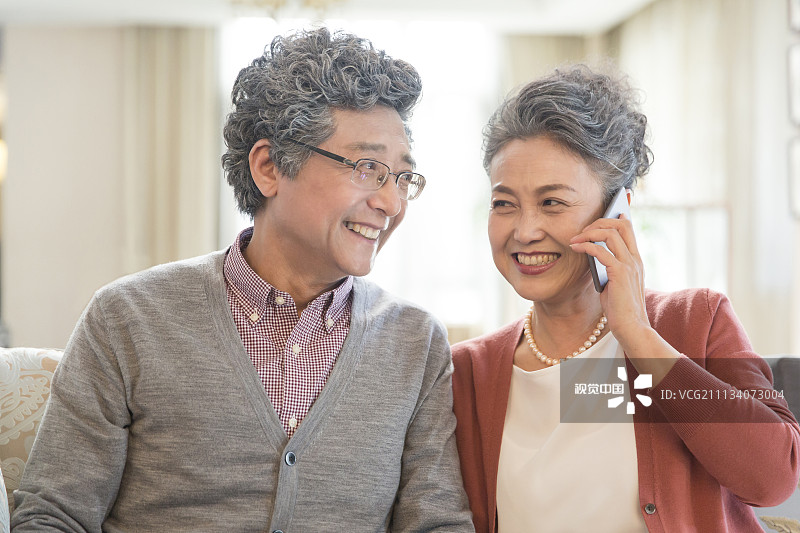calling: (556, 183, 685, 355)
